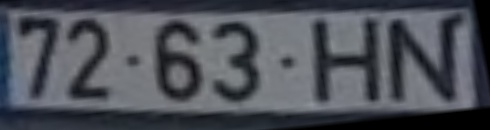2: (62, 16, 118, 105)
3: (209, 19, 265, 109)
6: (151, 17, 207, 107)
7: (17, 16, 65, 105)
H: (308, 18, 390, 109)
N: (385, 17, 464, 107)
